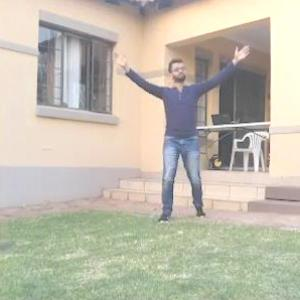takeoff: (94, 40, 240, 226)
